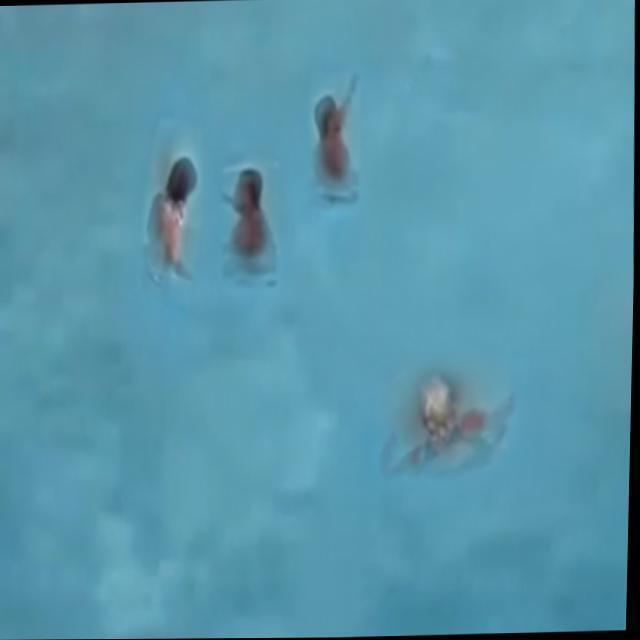swimming: (359, 361, 526, 492), (285, 66, 387, 225), (207, 144, 291, 283), (138, 137, 214, 284)
